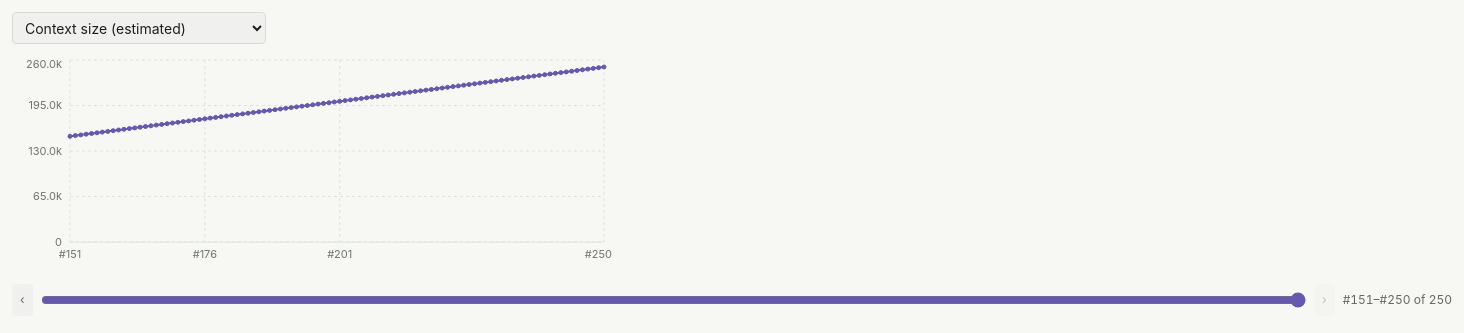
Test: SessionTrendChart › panning a long session › pans back with the step buttons and returns with Latest
Click the button named "Show earlier requests" at point(22, 300), box [12,284,33,316]
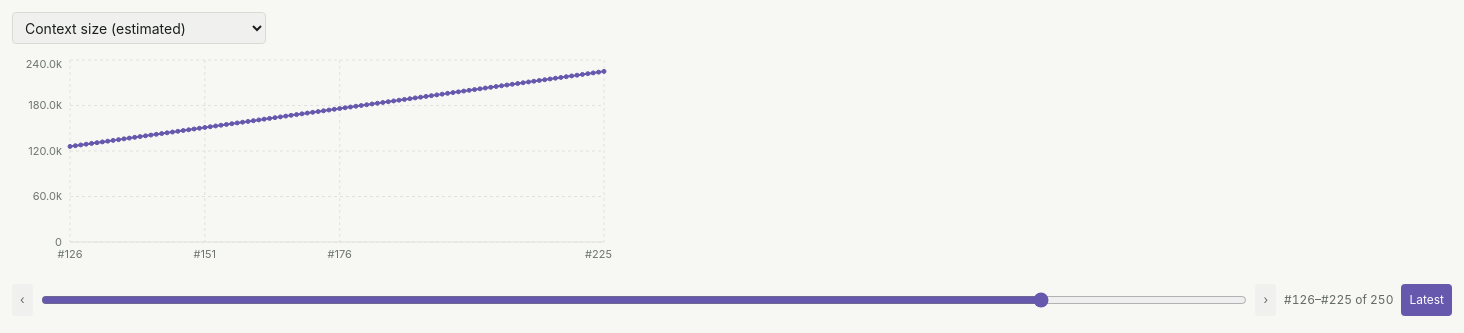
Expected: the text "#126–#225 of 250" is shown, [1284,292,1393,308]
Click the button "Latest" at point(1427, 300), box [1401,284,1452,316]
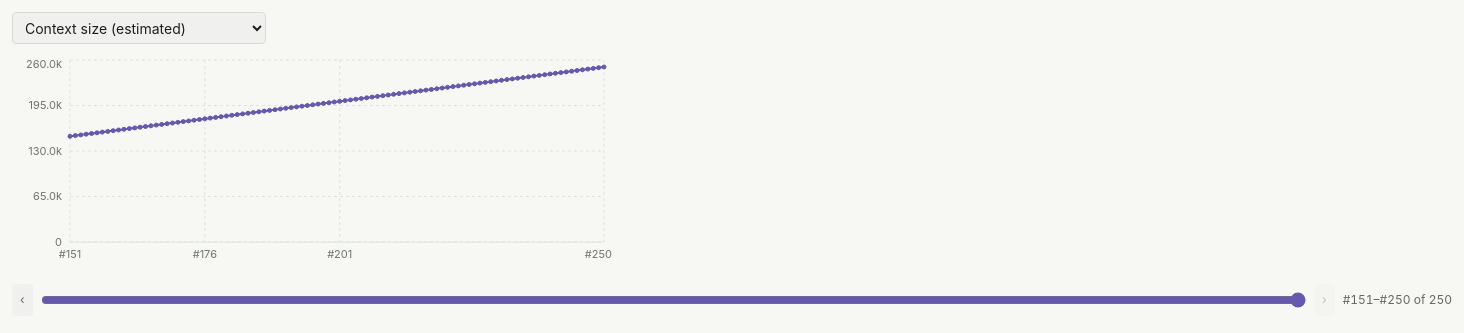
Expected: the text "#151–#250 of 250" is shown, [1343,292,1452,308]
Expected: the button "Latest" is gone
